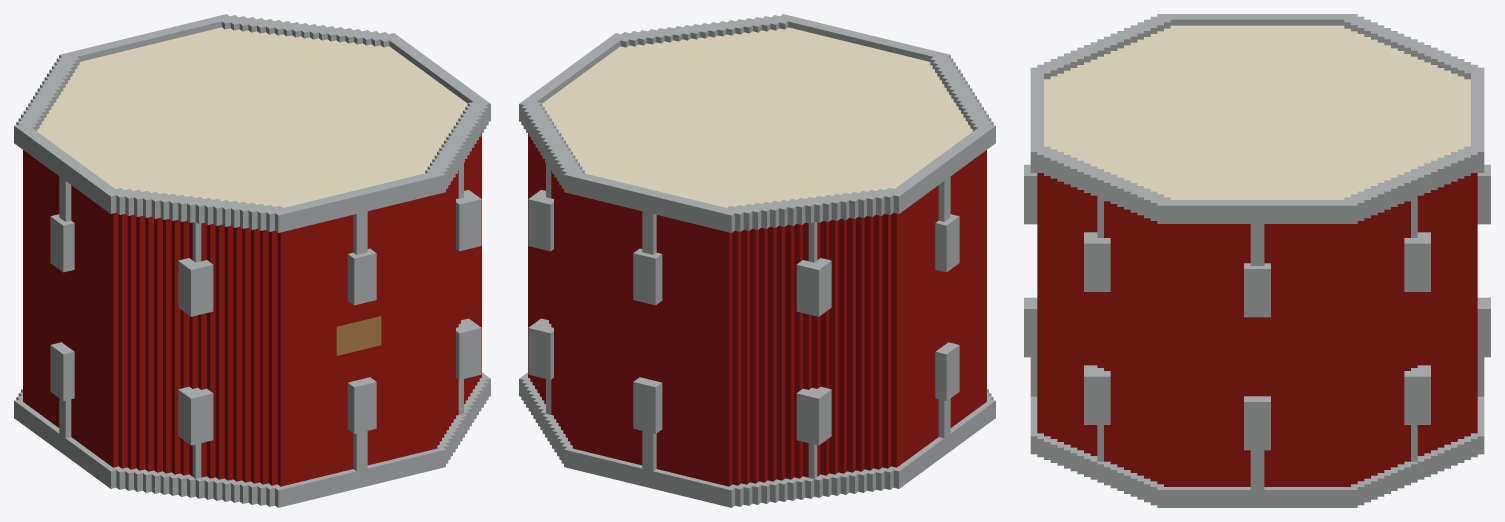
The model's file is drum_percussion.glb.
3 views of the same model, side by side, from view 1: azimuth 30°, elevation 25°; view 2: azimuth 150°, elevation 25°; view 3: azimuth 270°, elevation 25° (orthographic). The views are drawn at different scales.
Parts seen in each view (by area): view 1: drum_percussion:compound; view 2: drum_percussion:compound; view 3: drum_percussion:compound.
Boxes of the visible parts, x1,y1,x2,y2 form: drum_percussion:compound: (14,14,490,507); drum_percussion:compound: (519,14,995,507); drum_percussion:compound: (1024,14,1490,507).
Bounding box in the file's own units: 0.28 × 0.2 × 0.28.
